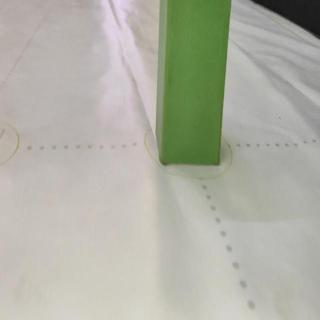greenbox: (155, 1, 233, 165)
